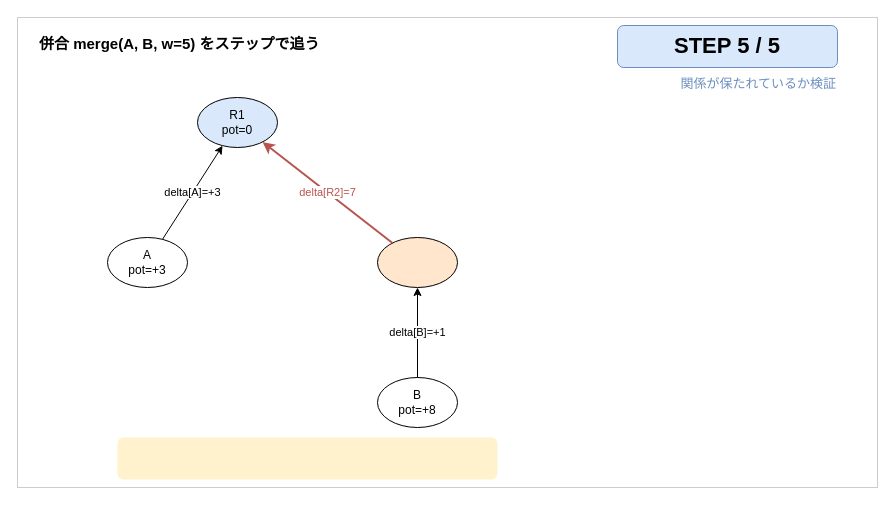
The diagram is 895 pixels wide and 505 high, and some of its shapes have lost their labels. Here are the shapes that lost their labels. From the top down, the centre of each, then its label:
At point 417,262: "R2 pot=+7".
At point 307,458: "diff(A, B) = 8 − 3 = 5 ✓".
